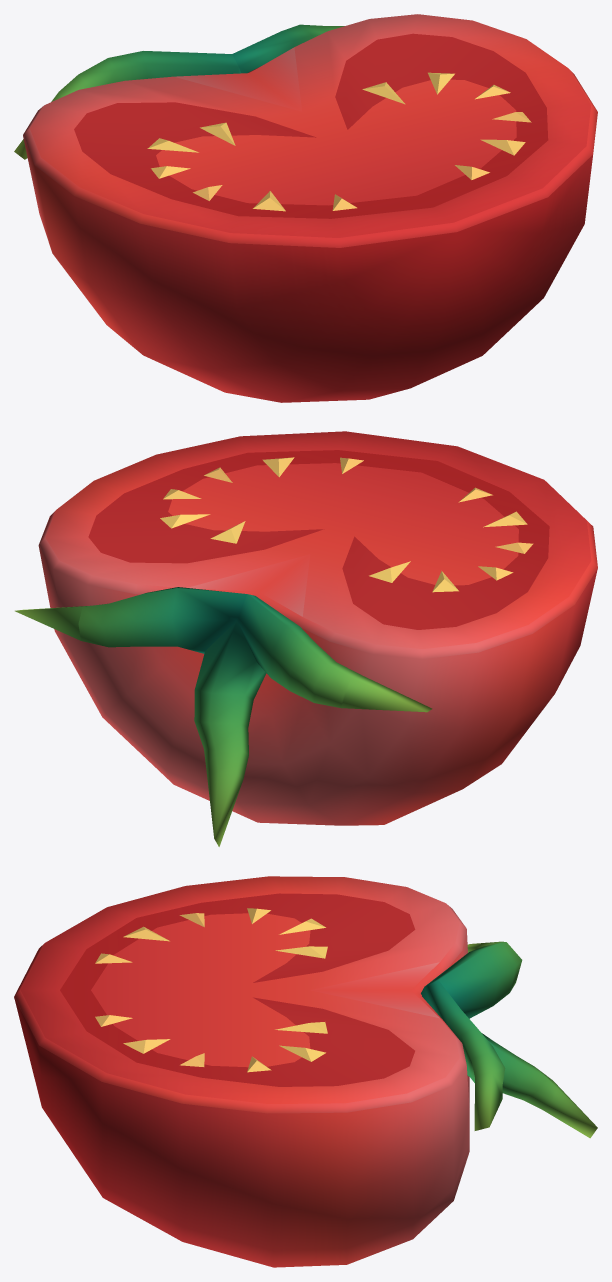
The model's file is tomato_002.fbx.
3 renders of one model, top to bottom at view 1: azimuth 30°, elevation 25°; view 2: azimuth 150°, elevation 25°; view 3: azimuth 270°, elevation 25°, orthographic. The views are drawn at different scales.
Parts seen in each view (by area): view 1: tomato_002; view 2: tomato_002; view 3: tomato_002.
Part boxes in pixels (left/top/right/bottom): tomato_002: left=14, top=14, right=597, bottom=402; tomato_002: left=15, top=431, right=597, bottom=846; tomato_002: left=14, top=876, right=597, bottom=1267.
Size of the model in its own units: 8.09 by 8.57 by 4.23.
